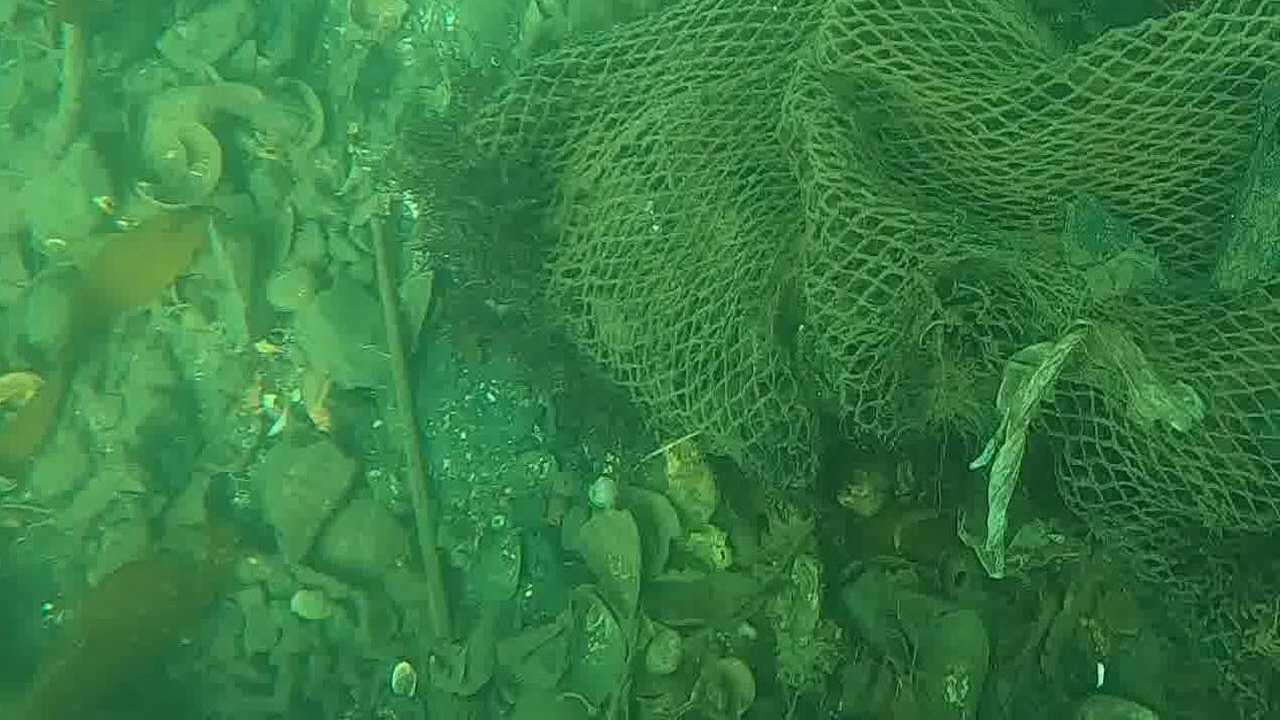fish net: (468, 0, 1280, 658)
